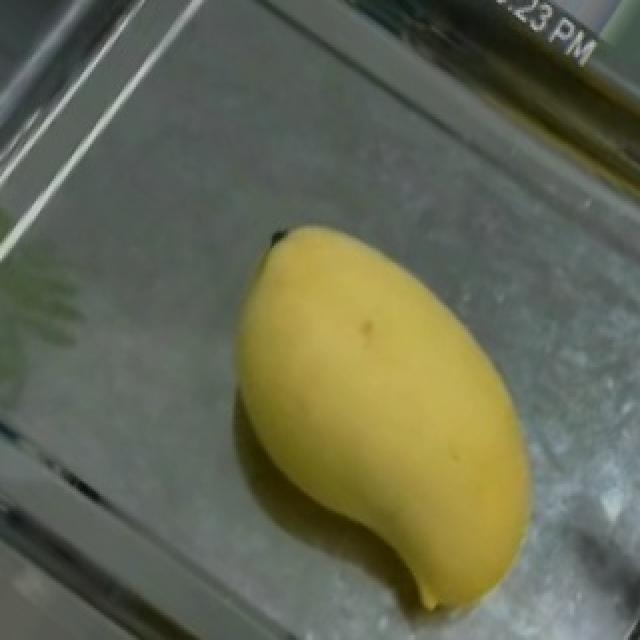fruit: (182, 171, 582, 593)
